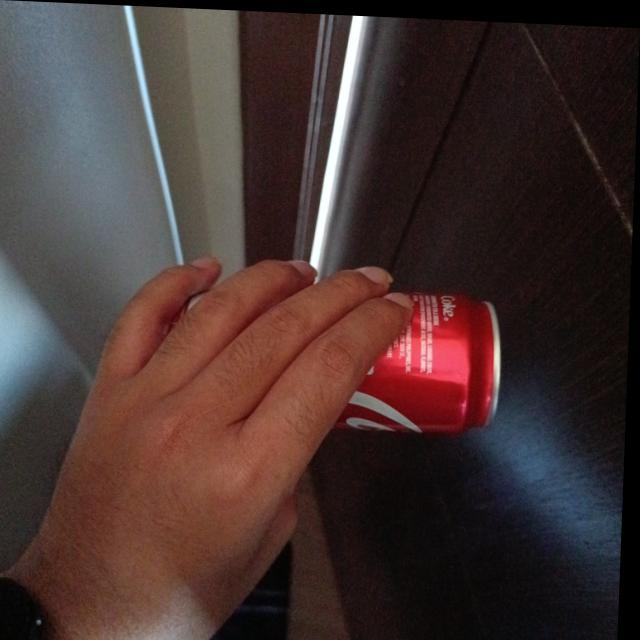coke: (325, 279, 507, 439)
